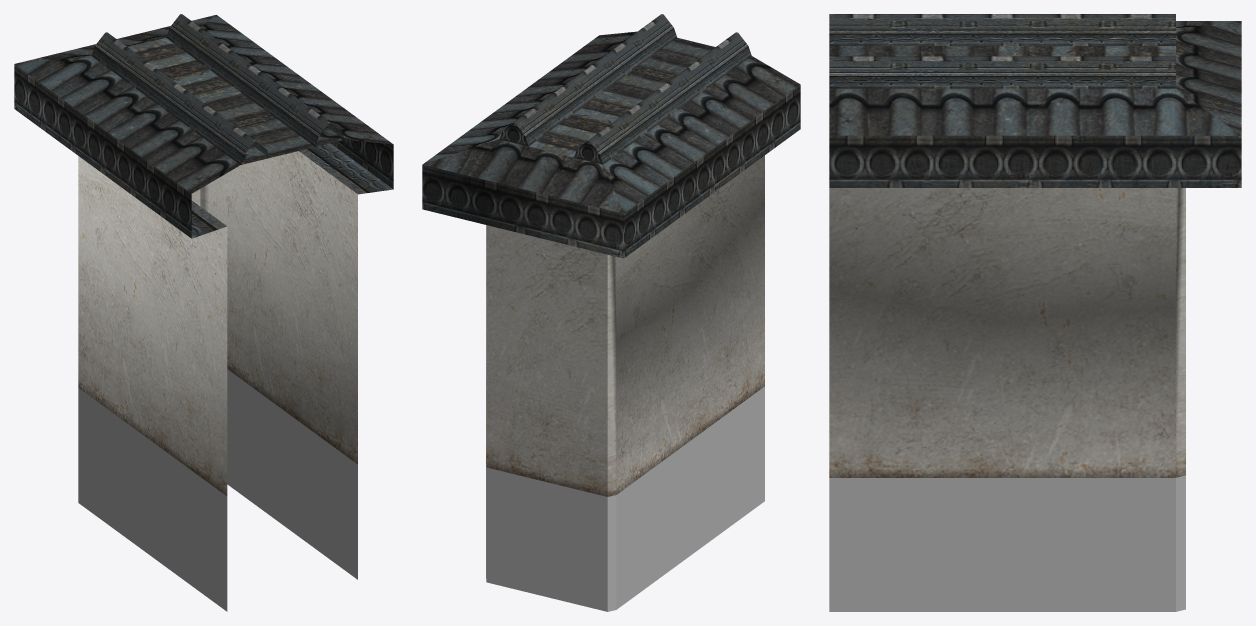
Rendered from wall_end_high_002.fbx.
3 views of the same model, side by side, from view 1: azimuth 30°, elevation 25°; view 2: azimuth 150°, elevation 25°; view 3: azimuth 270°, elevation 25° (orthographic). The views are drawn at different scales.
Parts seen in each view (by area): view 1: wall_end_high_002; view 2: wall_end_high_002; view 3: wall_end_high_002.
Part boxes in pixels (x1,y1,x2,y2): wall_end_high_002: (14, 14, 393, 611); wall_end_high_002: (422, 14, 800, 611); wall_end_high_002: (829, 14, 1241, 611).
Size of the model in its own units: 61.64 by 135 by 93.66.
